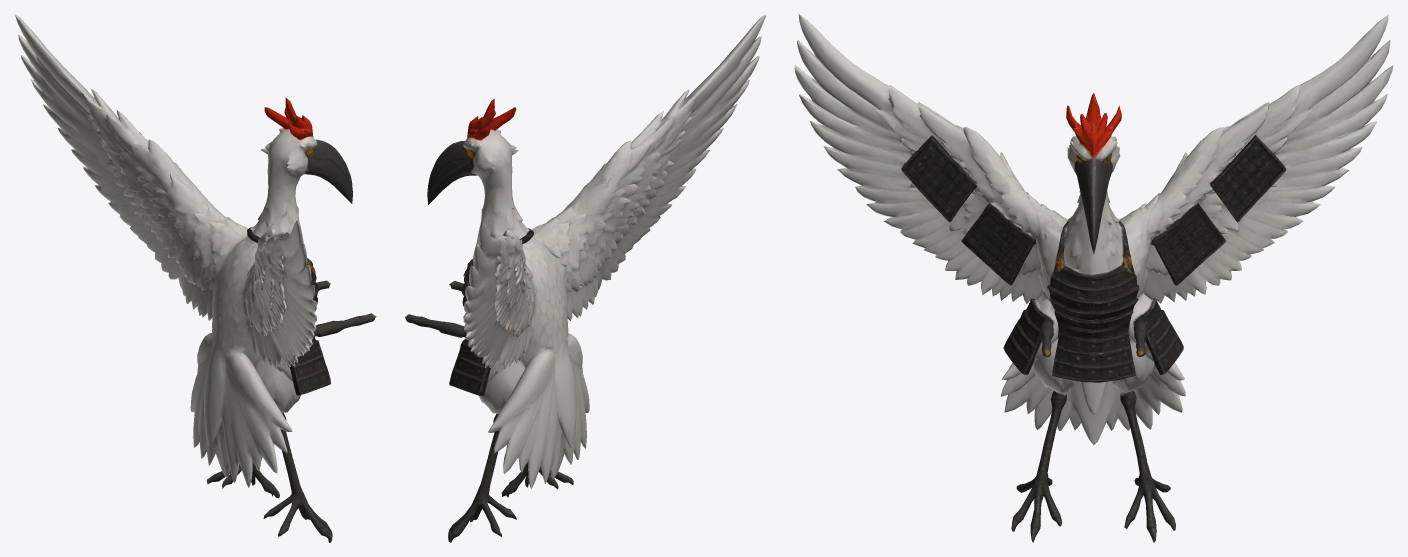
File: armoredCrane.glb
The picture shows the model from 3 angles, left to right: view 1: azimuth 30°, elevation 25°; view 2: azimuth 150°, elevation 25°; view 3: azimuth 270°, elevation 25°; orthographic projection. The views are drawn at different scales.
Visible parts, largest first — view 1: geometry_0; view 2: geometry_0; view 3: geometry_0.
Part boxes in pixels (box(x1,y1,x2,y2)): geometry_0: box(14, 14, 376, 542); geometry_0: box(405, 14, 765, 542); geometry_0: box(794, 14, 1393, 542).
Size of the model in its own units: 0.3967 by 0.835 by 0.9954.
1 material, 1 textured.
